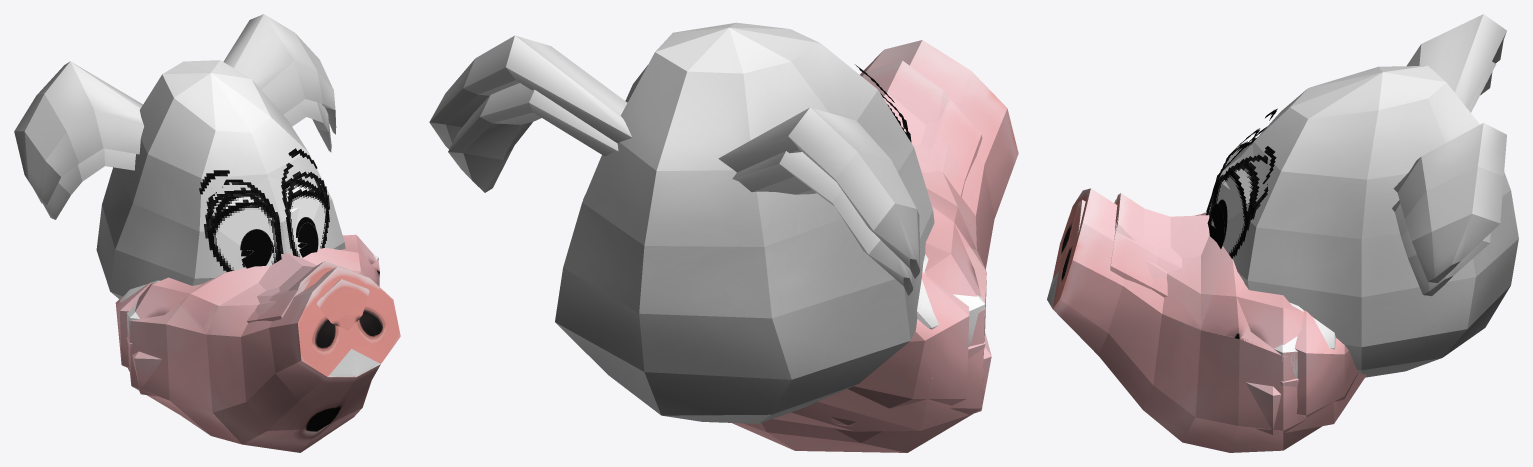
Rendered from pig_heads.fbx.
3 renders of one model, left to right at view 1: azimuth 30°, elevation 25°; view 2: azimuth 150°, elevation 25°; view 3: azimuth 270°, elevation 25°, orthographic. The views are drawn at different scales.
Visible parts, largest first — view 1: muzzle_long_surprise, head_long, earR_long, head_front_long, muzzle_long_smile, earL_long, eyes_long, muzzle_long_sad, muzzle_long_angry, earR_short, muzzle_short_surprise, muzzle_short_sad (+6 smaller); view 2: head_long, muzzle_long_surprise, earR_long, muzzle_short_surprise, earL_long, earL_short, muzzle_long_smile, earR_short, muzzle_long_sad, muzzle_short_sad, muzzle_long_angry, muzzle_short; view 3: head_long, muzzle_long_surprise, earL_long, muzzle_long_smile, muzzle_short_surprise, earR_long, muzzle_short_sad, head_front_long, muzzle_long_angry, eyes_long, muzzle_long_sad, earL_short (+3 smaller).
Part boxes in pixels (left/top/right/bottom): muzzle_long_surprise: left=128, top=249, right=400, bottom=452; head_long: left=96, top=60, right=307, bottom=298; earR_long: left=14, top=61, right=144, bottom=205; head_front_long: left=192, top=117, right=345, bottom=285; muzzle_long_smile: left=131, top=247, right=400, bottom=376; earL_long: left=223, top=14, right=336, bottom=134; eyes_long: left=199, top=148, right=329, bottom=272; muzzle_long_sad: left=128, top=279, right=369, bottom=396; muzzle_long_angry: left=129, top=234, right=376, bottom=368; earR_short: left=43, top=148, right=135, bottom=219; muzzle_short_surprise: left=115, top=279, right=310, bottom=368; muzzle_short_sad: left=126, top=252, right=352, bottom=348; head_long: left=555, top=22, right=934, bottom=423; muzzle_long_surprise: left=732, top=40, right=1018, bottom=452; earR_long: left=718, top=107, right=920, bottom=278; muzzle_short_surprise: left=829, top=98, right=982, bottom=426; earL_long: left=429, top=35, right=631, bottom=149; earL_short: left=448, top=83, right=618, bottom=192; muzzle_long_smile: left=861, top=40, right=1018, bottom=303; earR_short: left=732, top=151, right=913, bottom=295; muzzle_long_sad: left=773, top=332, right=991, bottom=431; muzzle_short_sad: left=862, top=60, right=985, bottom=358; muzzle_long_angry: left=924, top=218, right=984, bottom=311; muzzle_short: left=917, top=254, right=985, bottom=346; head_long: left=1247, top=66, right=1518, bottom=377; muzzle_long_surprise: left=1053, top=188, right=1321, bottom=452; earL_long: left=1393, top=123, right=1506, bottom=283; muzzle_long_smile: left=1052, top=188, right=1281, bottom=355; muzzle_short_surprise: left=1110, top=199, right=1358, bottom=417; earR_long: left=1406, top=14, right=1506, bottom=109; muzzle_short_sad: left=1115, top=193, right=1298, bottom=387; head_front_long: left=1208, top=89, right=1307, bottom=289; muzzle_long_angry: left=1236, top=285, right=1303, bottom=356; eyes_long: left=1206, top=108, right=1277, bottom=258; muzzle_long_sad: left=1066, top=199, right=1366, bottom=434; earL_short: left=1392, top=200, right=1490, bottom=296.
Size of the model in its own units: 7.93 by 7.99 by 9.23.
12 materials, 12 textured.
